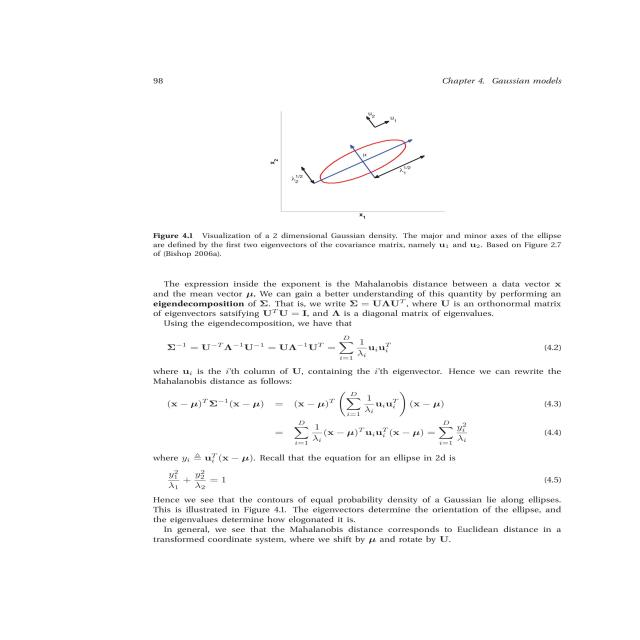diagram: (144, 109, 630, 266)
